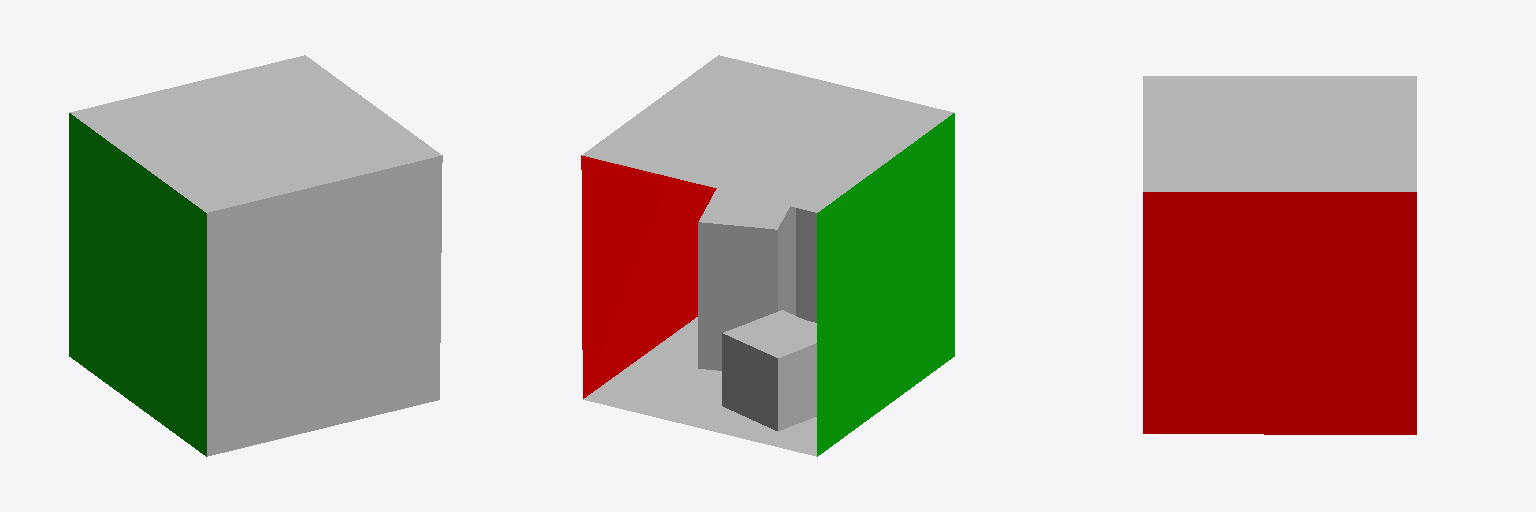
3 renders of one model, left to right at view 1: azimuth 30°, elevation 25°; view 2: azimuth 150°, elevation 25°; view 3: azimuth 270°, elevation 25°, orthographic.
Parts seen in each view (by area): view 1: back_wall, green_wall, ceiling; view 2: green_wall, ceiling, red_wall, tall_block, floor, short_block, back_wall; view 3: red_wall, ceiling.
Boxes of the visible parts, x1=… form: back_wall: x1=207, y1=155, x2=442, y2=456; green_wall: x1=69, y1=113, x2=206, y2=456; ceiling: x1=70, y1=55, x2=441, y2=212; green_wall: x1=817, y1=113, x2=954, y2=456; ceiling: x1=582, y1=55, x2=953, y2=212; red_wall: x1=581, y1=155, x2=716, y2=398; tall_block: x1=698, y1=189, x2=795, y2=370; floor: x1=583, y1=317, x2=816, y2=456; short_block: x1=722, y1=310, x2=816, y2=431; back_wall: x1=796, y1=208, x2=816, y2=322; red_wall: x1=1143, y1=192, x2=1416, y2=434; ceiling: x1=1143, y1=76, x2=1416, y2=191.
Size of the model in its own units: 9.78 by 9.65 by 9.84.